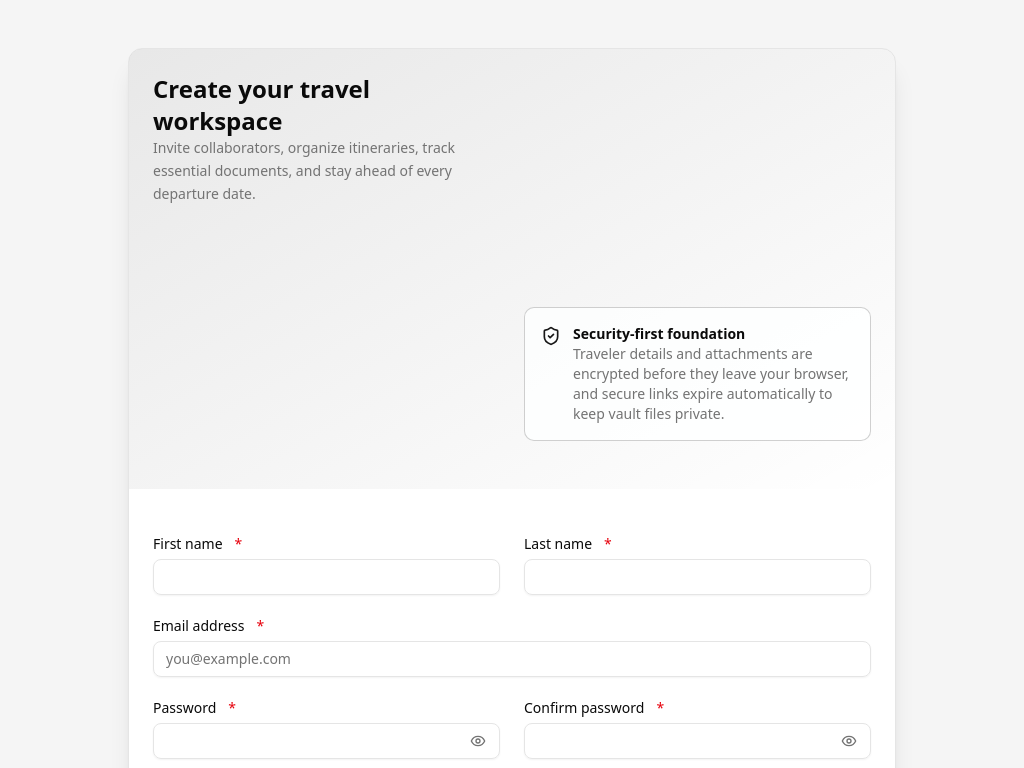
Test case: Register page motion regression › updates tracker statuses as sections progress
Type "Jamie" into the field labelled "First name". click: {"x": 326, "y": 577}
box: [153,559,500,595]
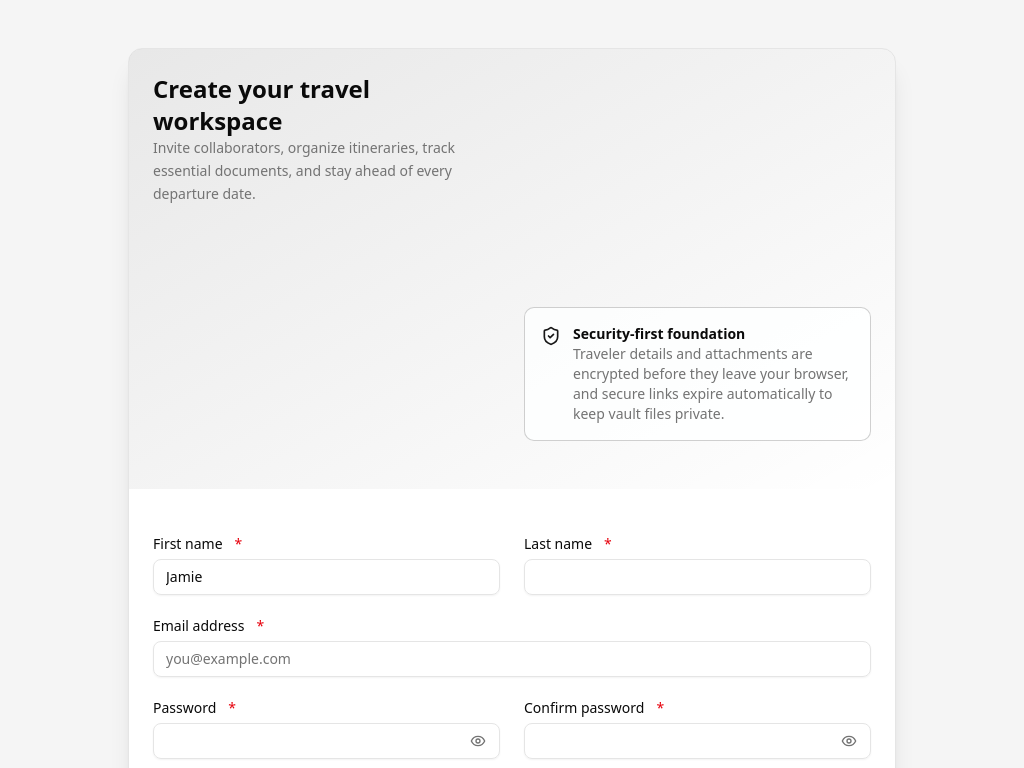
Type "Rivera" into the field labelled "Last name". click: {"x": 698, "y": 577}
box: [524,559,871,595]
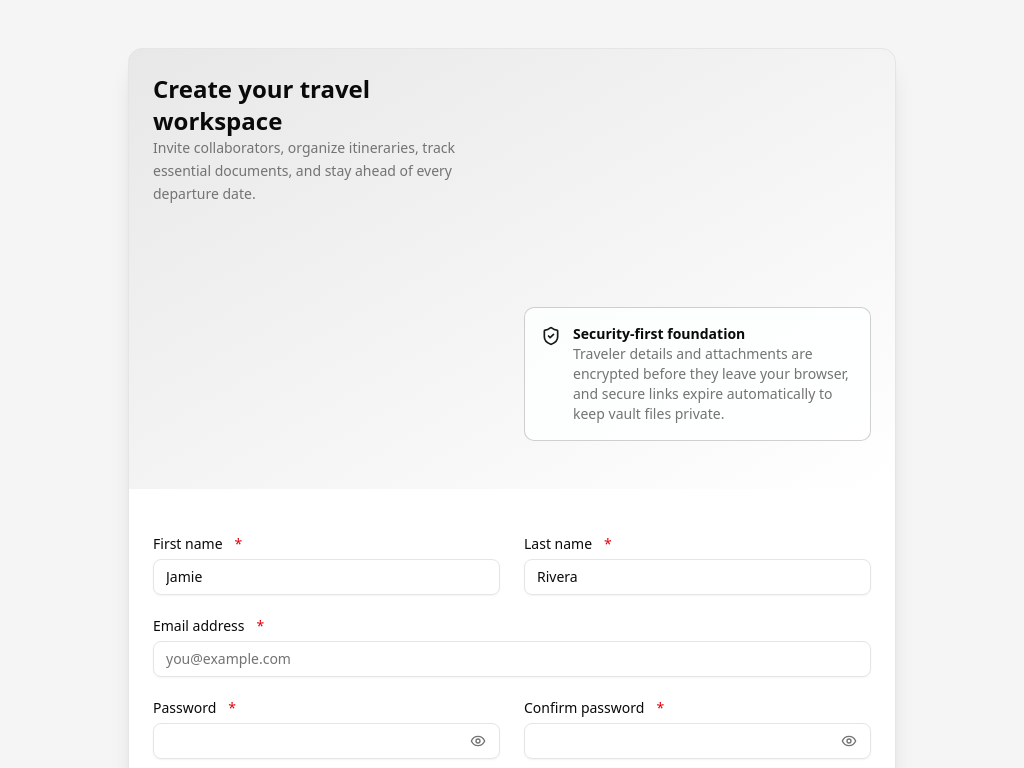
Type "jamie@example.com" into the field labelled "Email address". click: {"x": 512, "y": 659}
box: [153,641,871,677]
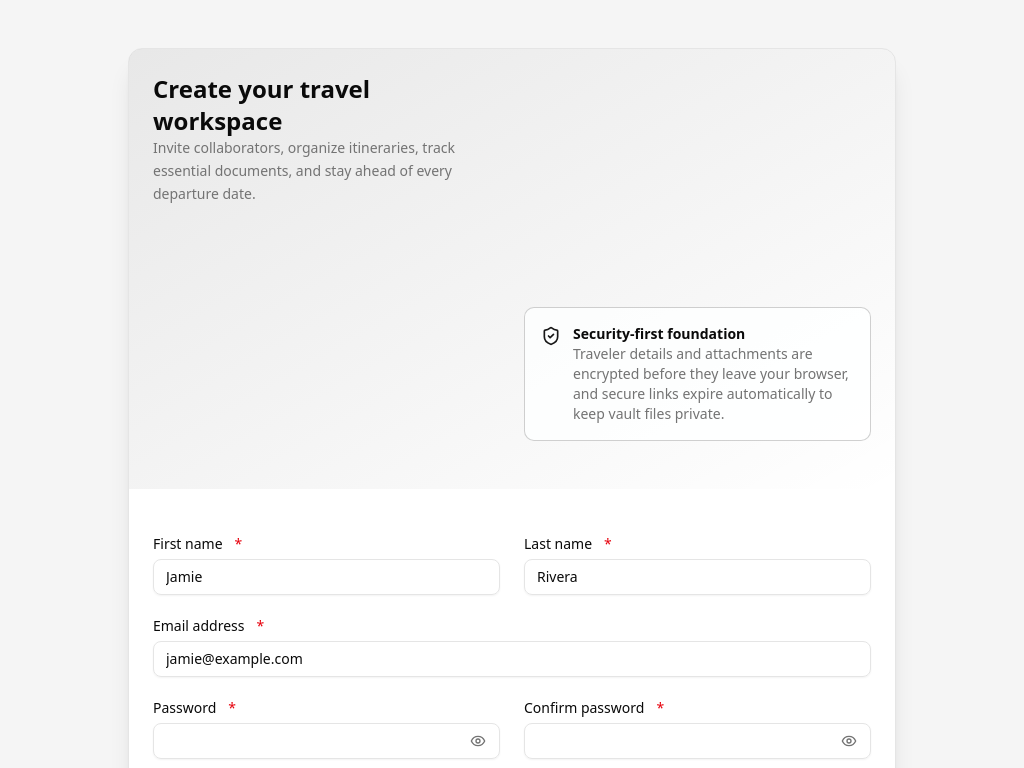
Type "Password1" into the password field labelled "Password". click: {"x": 326, "y": 741}
box: [153,723,500,759]
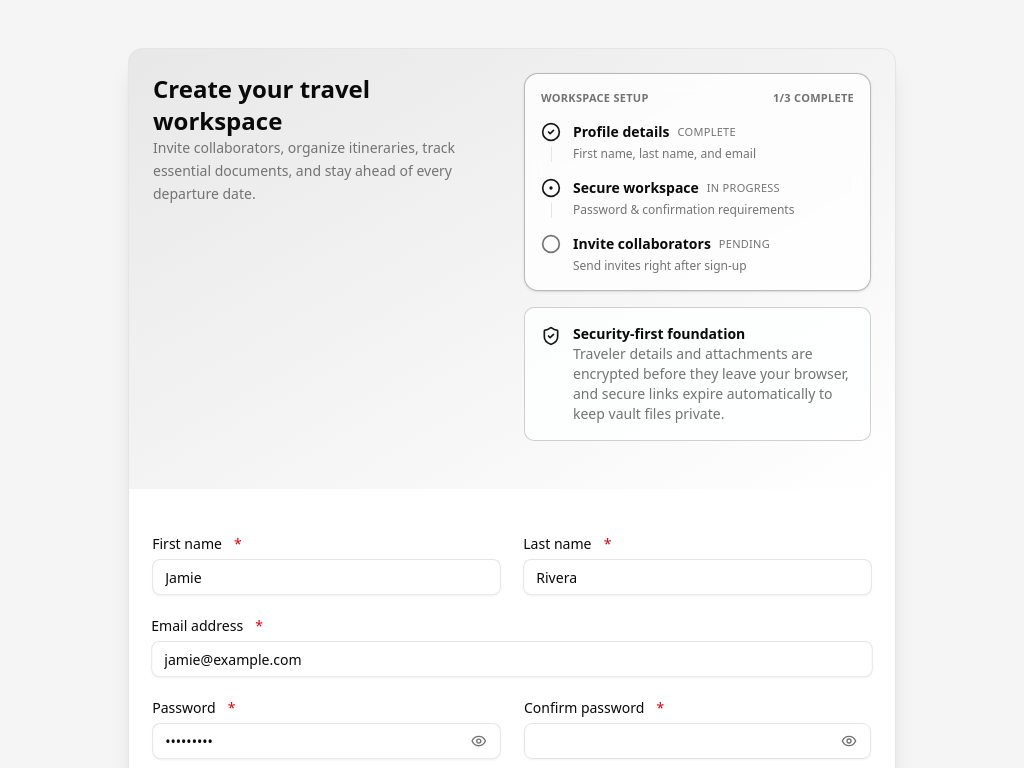
Now the text with test id "tracker-status-workspace-security" reads "In progress", box [707,180,780,195]
Type "Password1" into the password field labelled "Confirm password". click: {"x": 698, "y": 741}
box: [524,723,871,759]
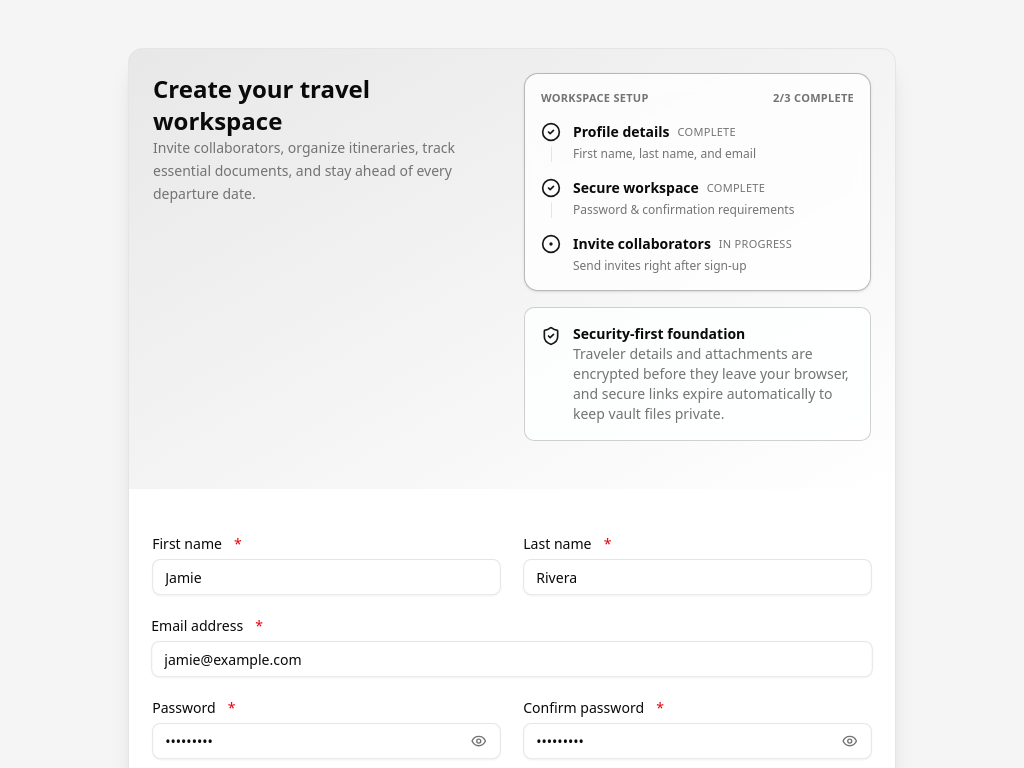
Now the text with test id "tracker-status-workspace-security" reads "Complete", box [707,180,765,195]
Now the text with test id "tracker-status-invite-team" reads "In progress", box [719,236,792,251]
